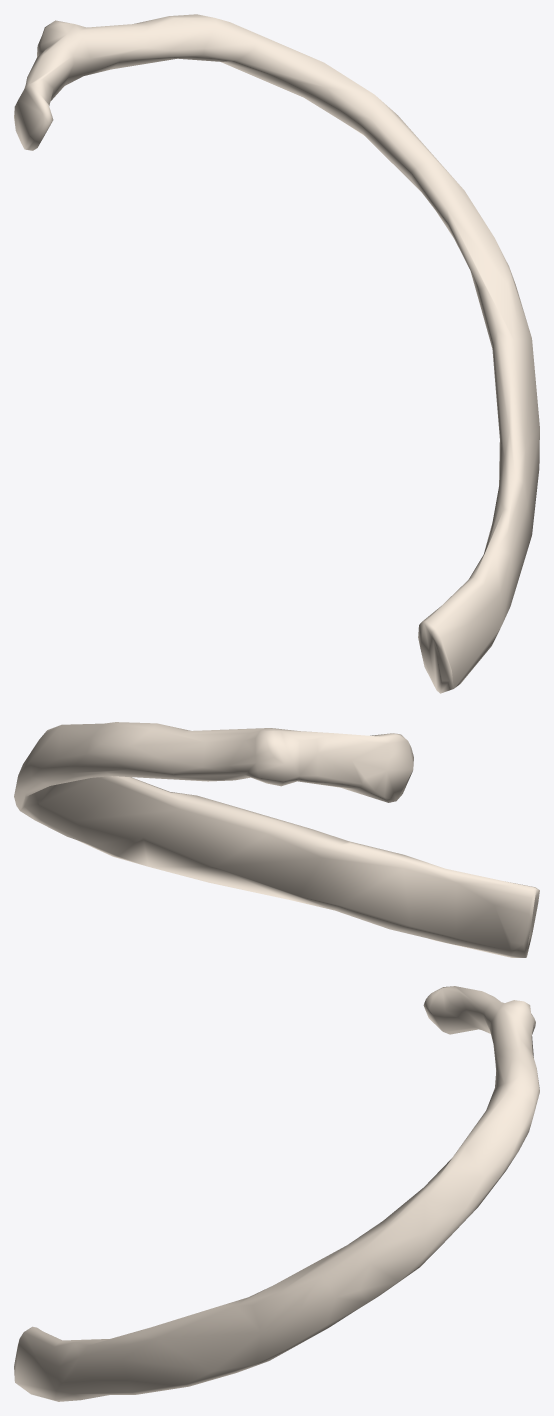
File: left_rib_3.glb
3 views of the same model, one above another, from view 1: azimuth 30°, elevation 25°; view 2: azimuth 150°, elevation 25°; view 3: azimuth 270°, elevation 25° (orthographic). The views are drawn at different scales.
Visible parts, largest first — view 1: Rib (3rd).r; view 2: Rib (3rd).r; view 3: Rib (3rd).r.
Part boxes in pixels (x1,y1,x2,y2): Rib (3rd).r: (14, 14, 539, 693); Rib (3rd).r: (14, 722, 539, 957); Rib (3rd).r: (14, 986, 539, 1401).
Size of the model in its own units: 0.0965 by 0.1051 by 0.1385.
